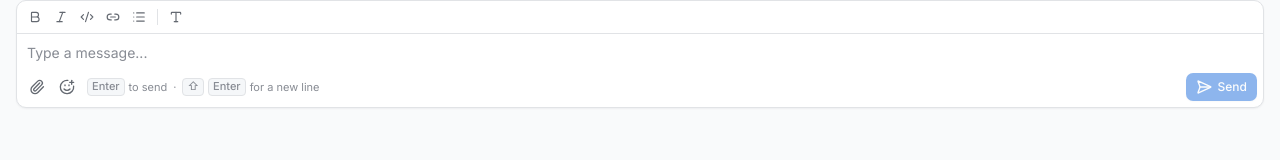
Test: tagging yourself › inserts your username, which is what the server resolves
The image size is (1280, 160).
Step 1. Type "@har" into the text box → x=640, y=53, box [17,34,1263,73]
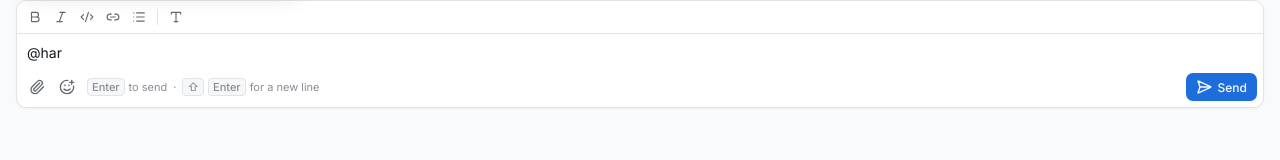
Step 2. Press Enter in the text box, box [17,34,1263,73]
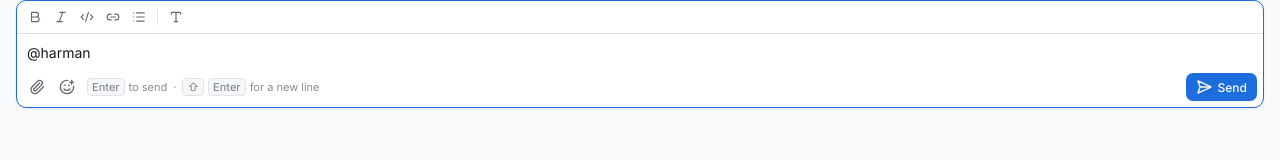
Expected: the text box holds "@harman ", [17,34,1263,73]
